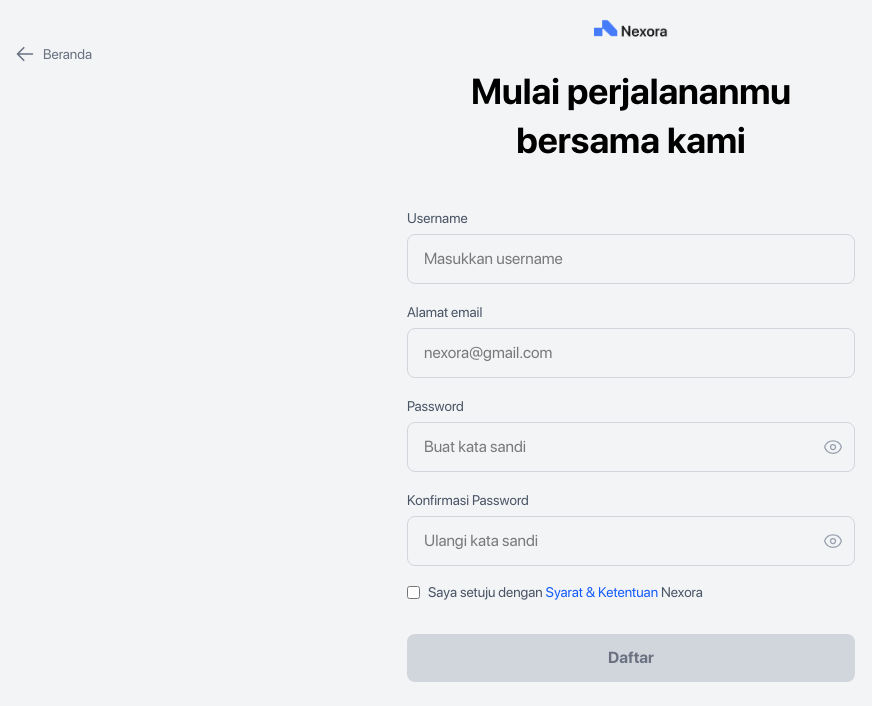
Register Component Error Handling › should display general error message as an alert for non-field errors
The image size is (872, 706).
Step 1. Type "user2" into the field with placeholder "Masukkan username" → [631, 258], box [407, 234, 855, 284]
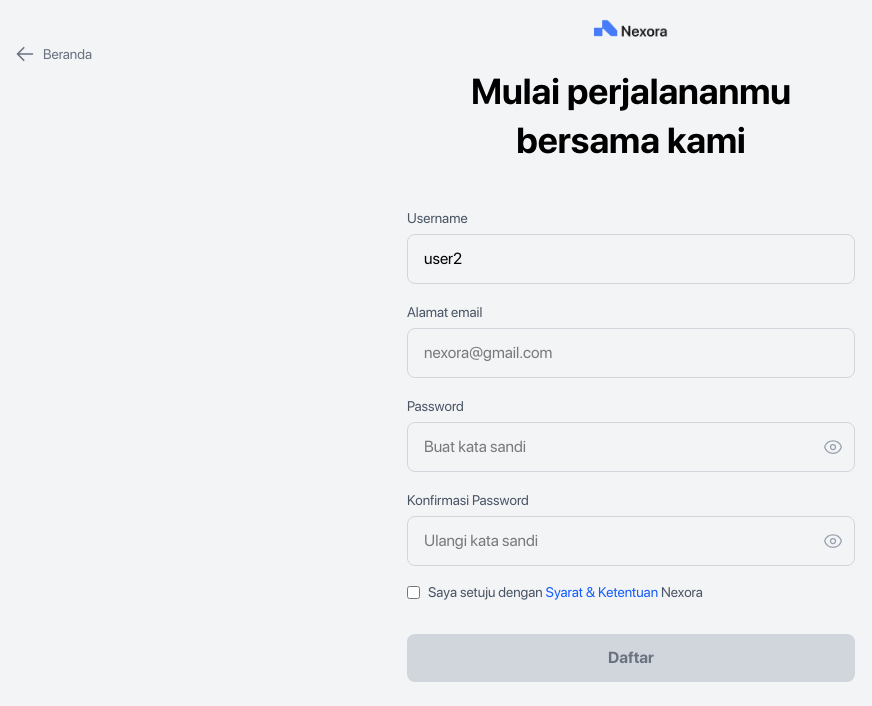
Step 2. Type "test2@gmail.com" into the field with placeholder "nexora@gmail.com" → [631, 352], box [407, 328, 855, 378]
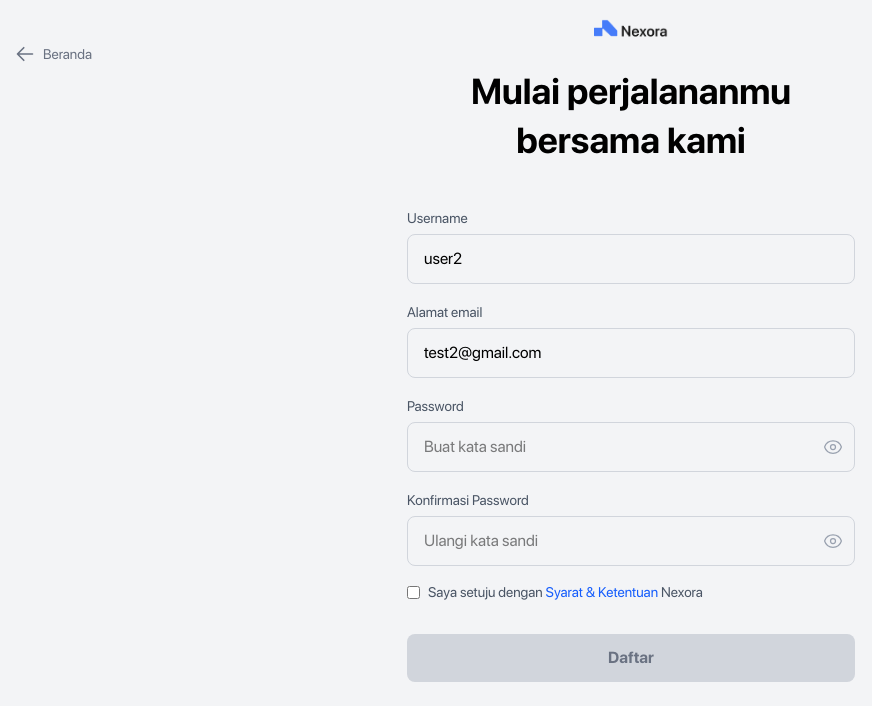
Step 3. Type "password123" into the password field with placeholder "Buat kata sandi" → [631, 446], box [407, 422, 855, 472]
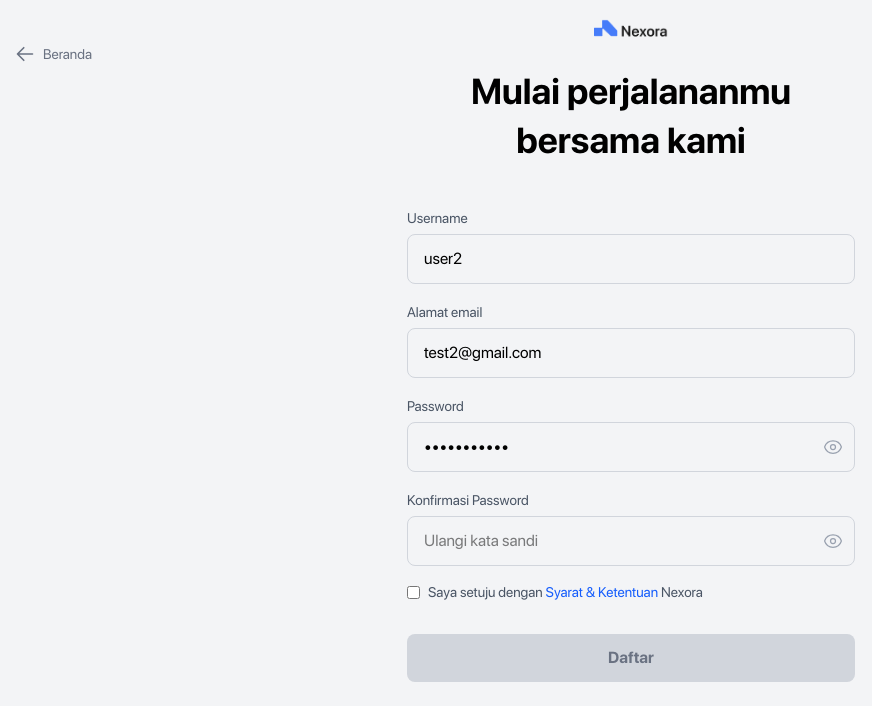
Step 4. Type "password123" into the password field with placeholder "Ulangi kata sandi" → [631, 540], box [407, 516, 855, 566]
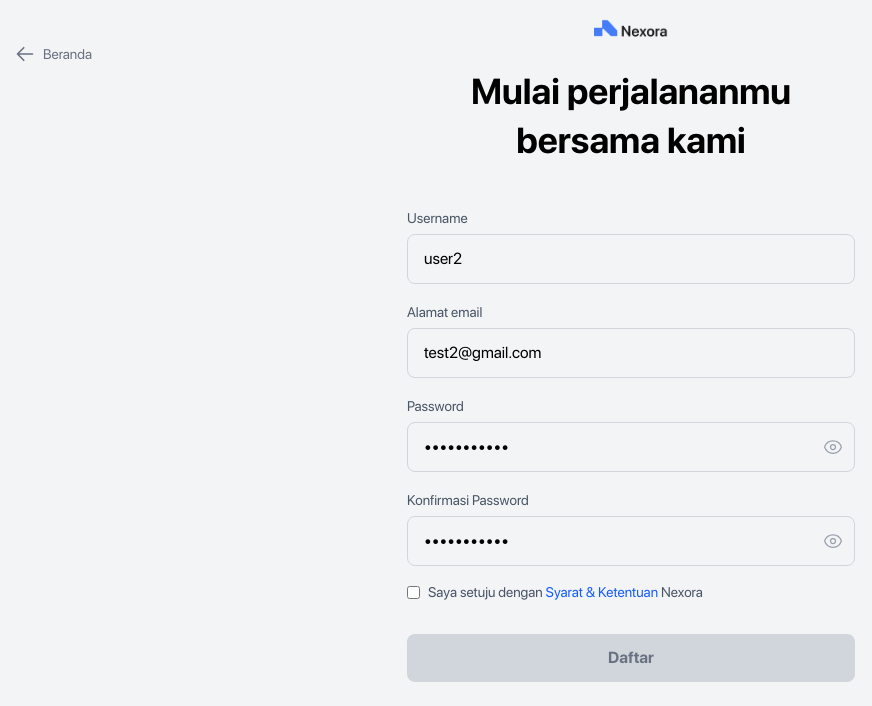
Step 5. Click the checkbox → [414, 592], box [407, 586, 420, 598]
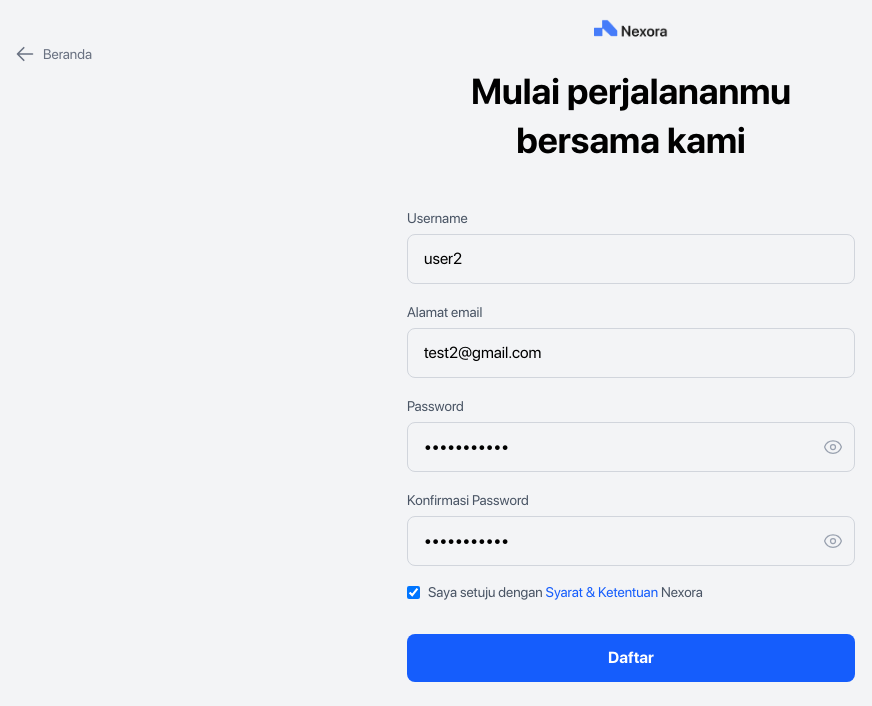
Step 6. Click the button "Daftar" → [631, 658], box [407, 634, 855, 682]
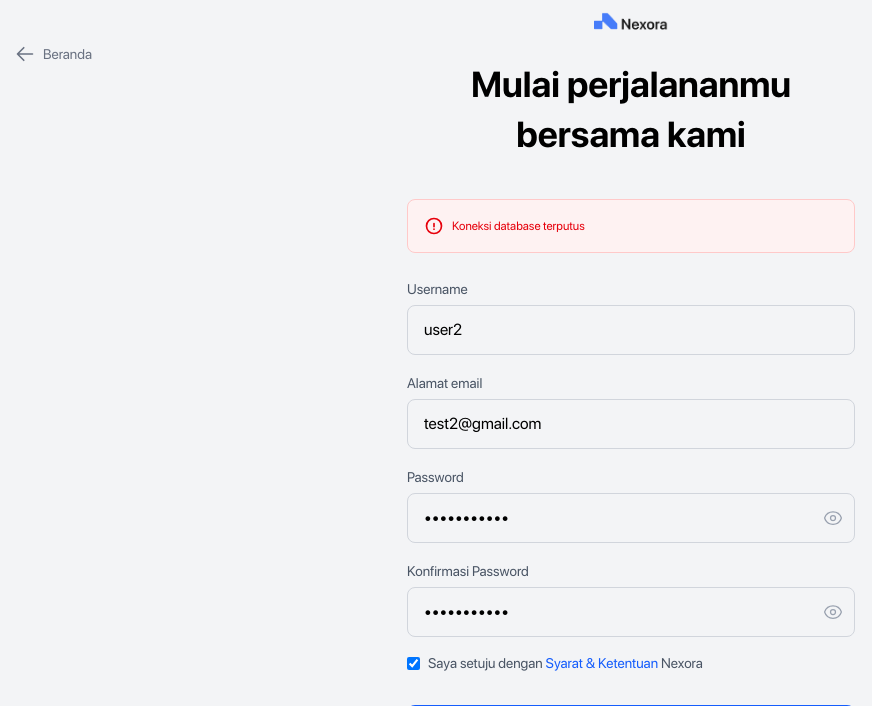
Expected: the text "Koneksi database terputus" is shown, [407, 199, 855, 253]
